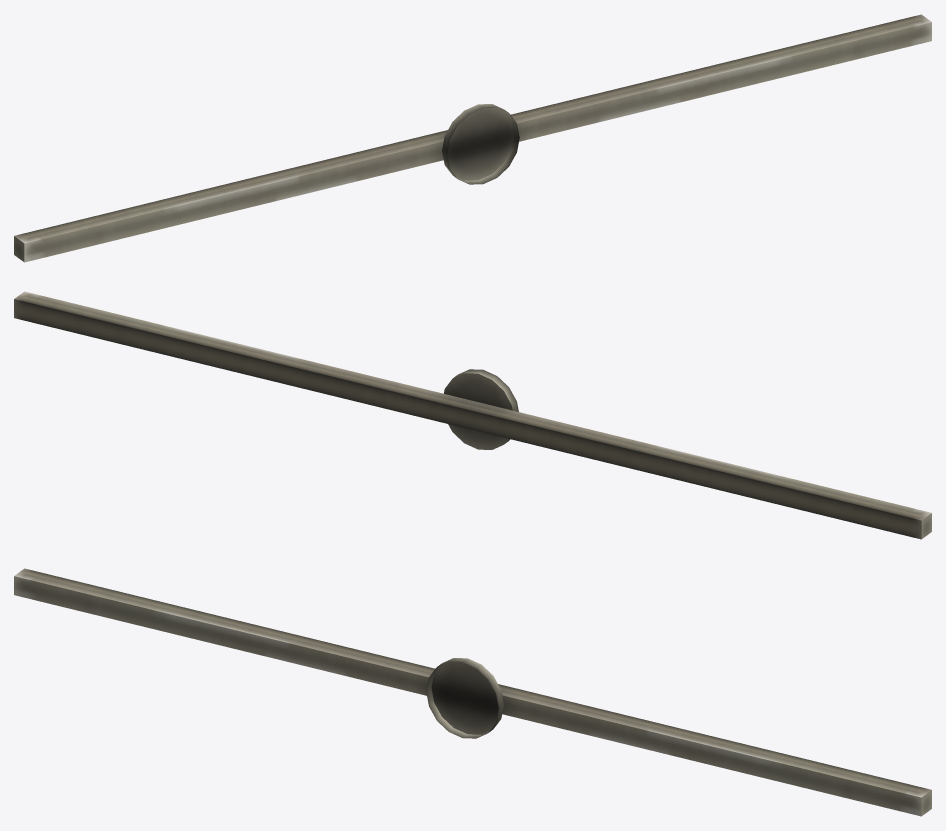
File: acamar_solar_pivot.obj
3 views of the same model, one above another, from view 1: azimuth 30°, elevation 25°; view 2: azimuth 150°, elevation 25°; view 3: azimuth 330°, elevation 25° (orthographic).
Parts seen in each view (by area): view 1: mesh1; view 2: mesh1; view 3: mesh1.
Part boxes in pixels (box(x1,y1,x2,y2)): mesh1: box(14, 14, 931, 262); mesh1: box(14, 291, 931, 539); mesh1: box(14, 568, 931, 816).
Size of the model in its own units: 1.25 by 0.1 by 0.0375.
Materials: 1 (1 with a texture image).
